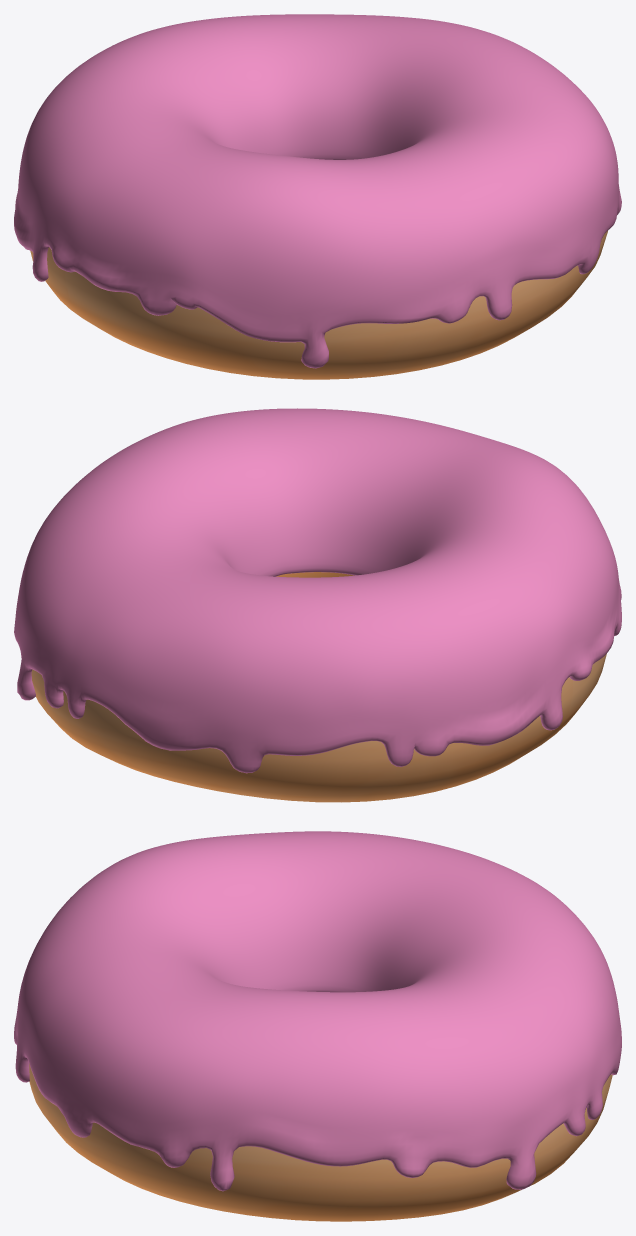
The model's file is Donut.fbx.
3 renders of one model, top to bottom at view 1: azimuth 30°, elevation 25°; view 2: azimuth 150°, elevation 25°; view 3: azimuth 270°, elevation 25°, orthographic.
Visible parts, largest first — view 1: Icing, Donut; view 2: Icing, Donut; view 3: Icing, Donut.
Part boxes in pixels (x1,y1,x2,y2): Icing: (14,14,621,368); Donut: (30,231,607,379); Icing: (14,408,621,773); Donut: (31,572,606,802); Icing: (14,831,621,1191); Donut: (29,1063,612,1221).
Bounding box in the file's own units: 82.23 × 32.09 × 81.5.
